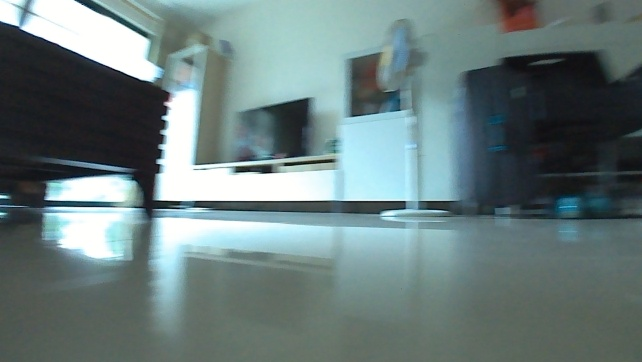chair_base: (377, 201, 451, 220)
tea_table1: (0, 15, 171, 220)
